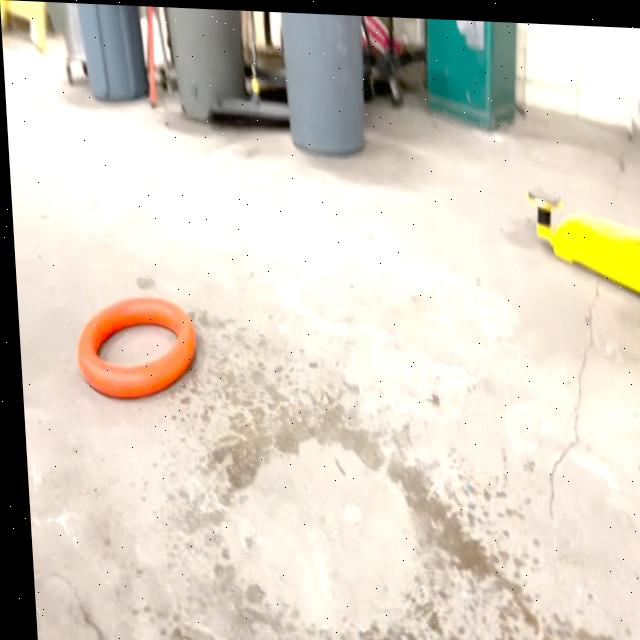note: (68, 290, 195, 403)
